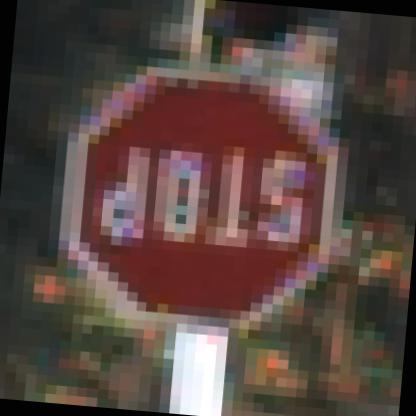stop: (18, 53, 363, 340)
